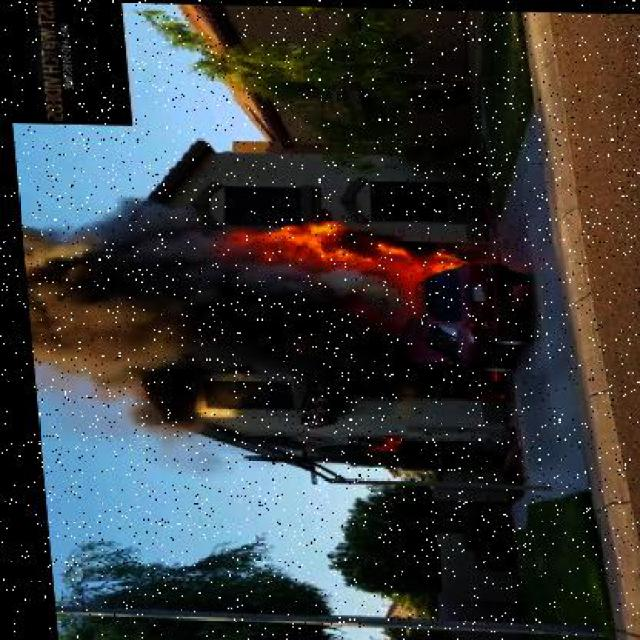fire: (166, 193, 503, 400)
